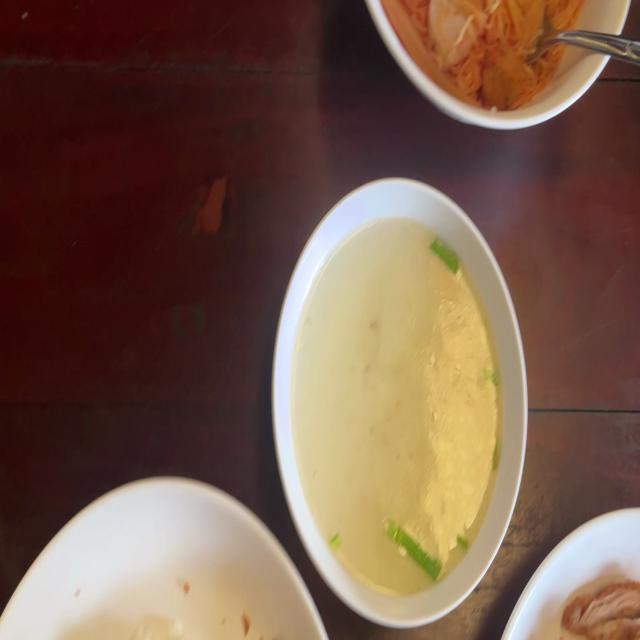fried_chicken: (560, 579, 640, 639)
noodle: (375, 0, 616, 114)
